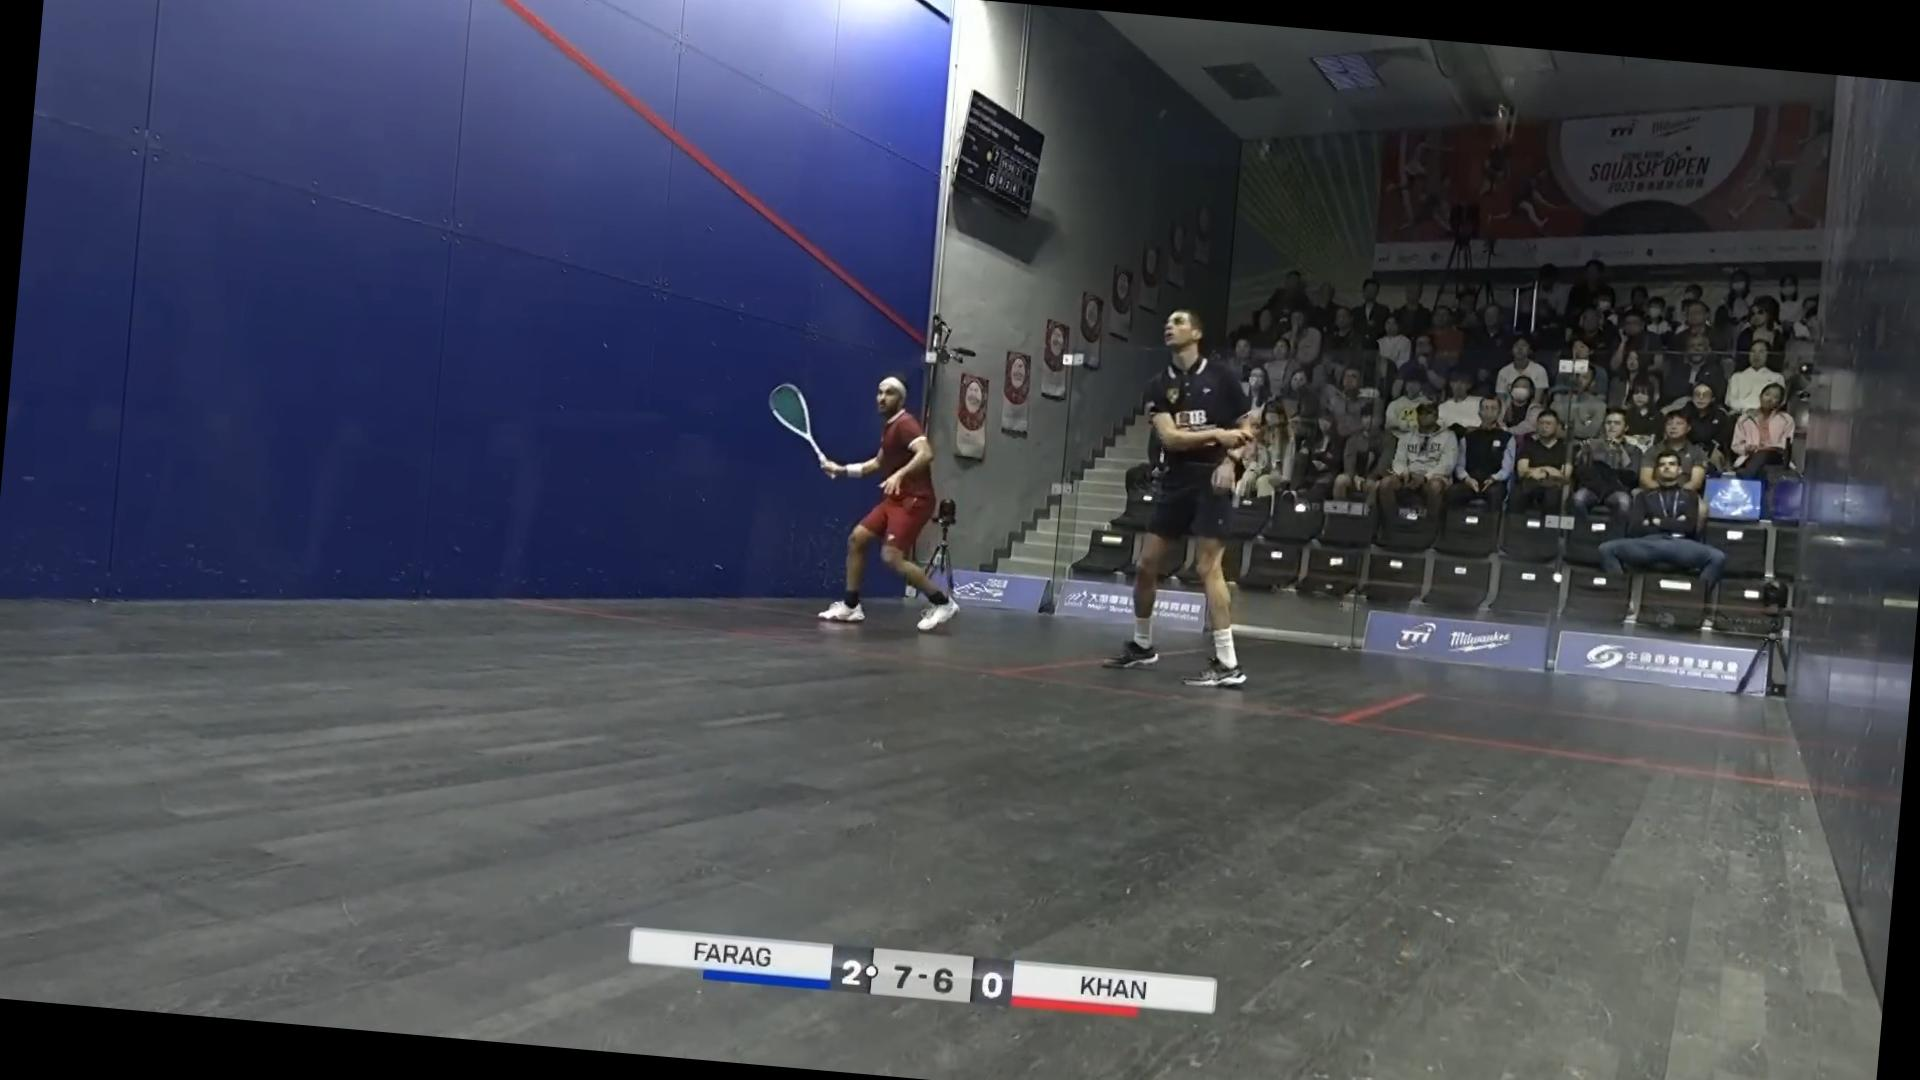Racket: (769, 365, 844, 463)
